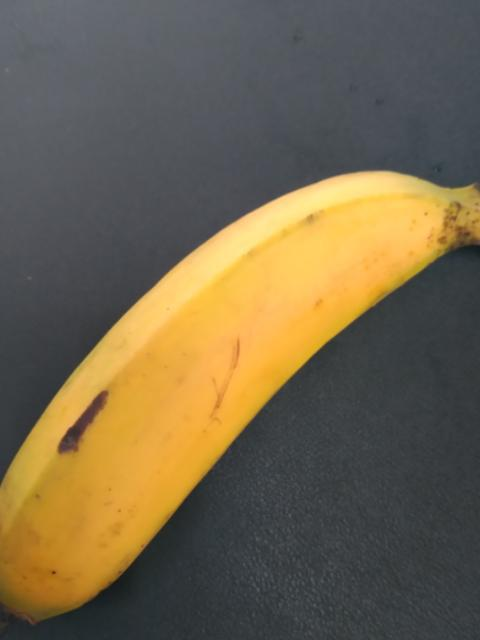freshripe: (0, 161, 459, 632)
